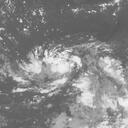cyclone: (43, 48, 84, 89)
